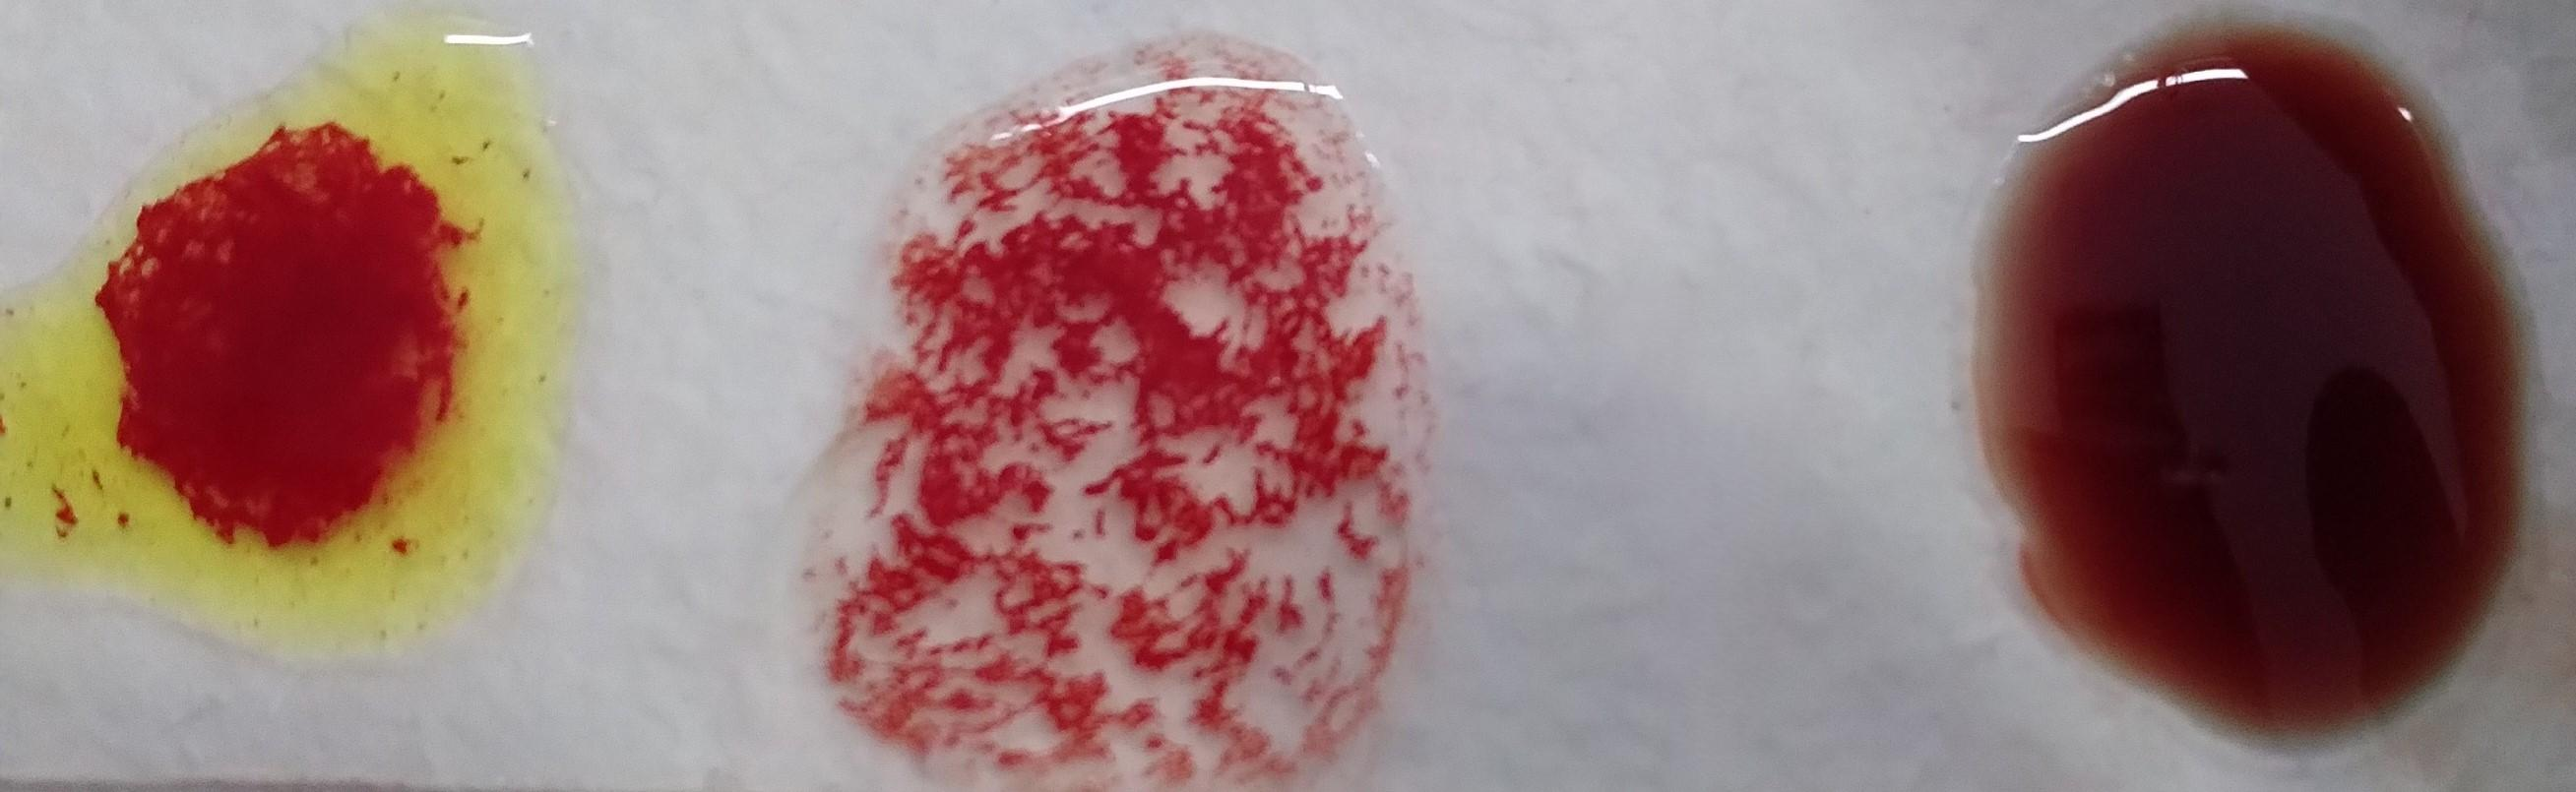B: (23, 72, 531, 647)
D: (889, 69, 1405, 772)
